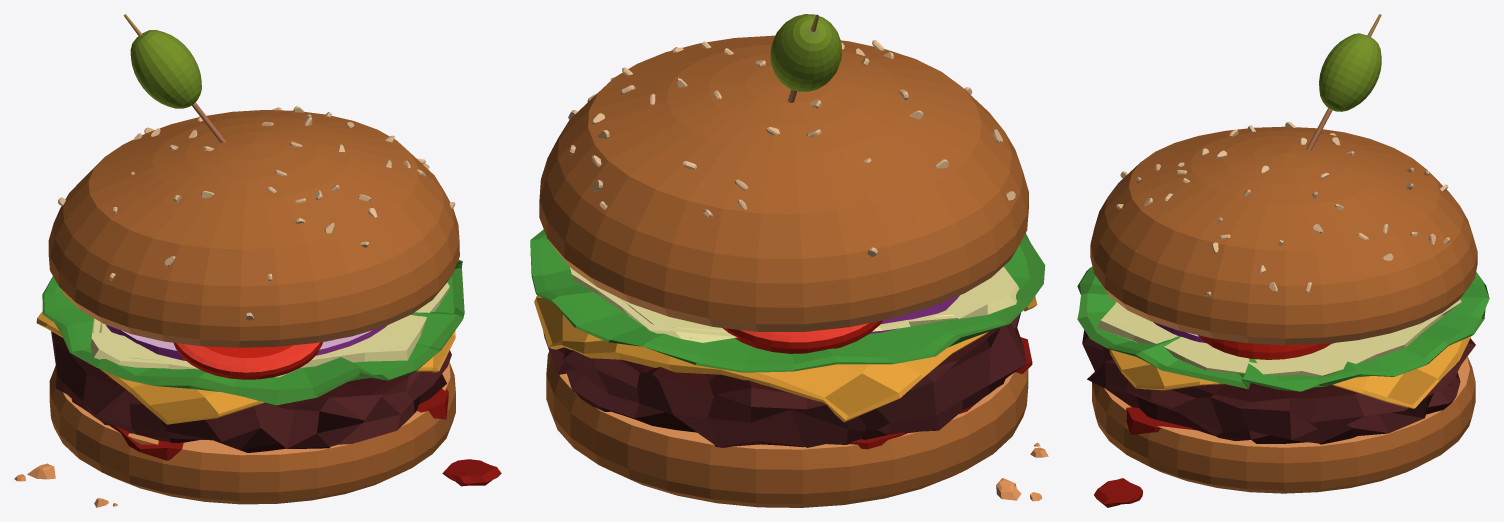
The model's file is Burger2.fbx.
The picture shows the model from 3 angles, left to right: view 1: azimuth 30°, elevation 25°; view 2: azimuth 150°, elevation 25°; view 3: azimuth 270°, elevation 25°; orthographic projection. The views are drawn at different scales.
Visible parts, largest first — view 1: Burger_2; view 2: Burger_2; view 3: Burger_2.
Boxes of the visible parts, x1,y1,x2,y2 form: Burger_2: [14, 14, 501, 507]; Burger_2: [530, 14, 1048, 507]; Burger_2: [1077, 14, 1489, 507].
Size of the model in its own units: 208 by 196 by 188.
